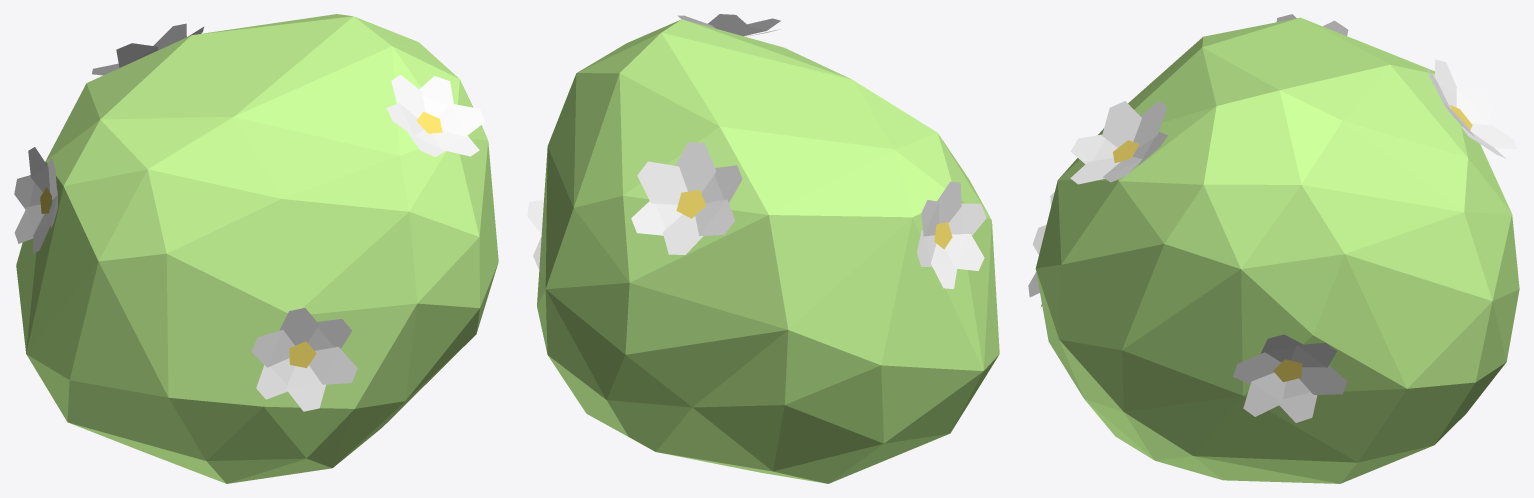
The model's file is FlowerBush_a_m_07.fbx.
3 views of the same model, side by side, from view 1: azimuth 30°, elevation 25°; view 2: azimuth 150°, elevation 25°; view 3: azimuth 270°, elevation 25° (orthographic). The views are drawn at different scales.
Visible parts, largest first — view 1: FlowerBush_a_m_07; view 2: FlowerBush_a_m_07; view 3: FlowerBush_a_m_07.
Boxes of the visible parts, box(x1,y1,x2,y2) form: FlowerBush_a_m_07: box(14, 14, 498, 483); FlowerBush_a_m_07: box(527, 14, 999, 483); FlowerBush_a_m_07: box(1028, 14, 1519, 483).
Size of the model in its own units: 162 by 142 by 146.
